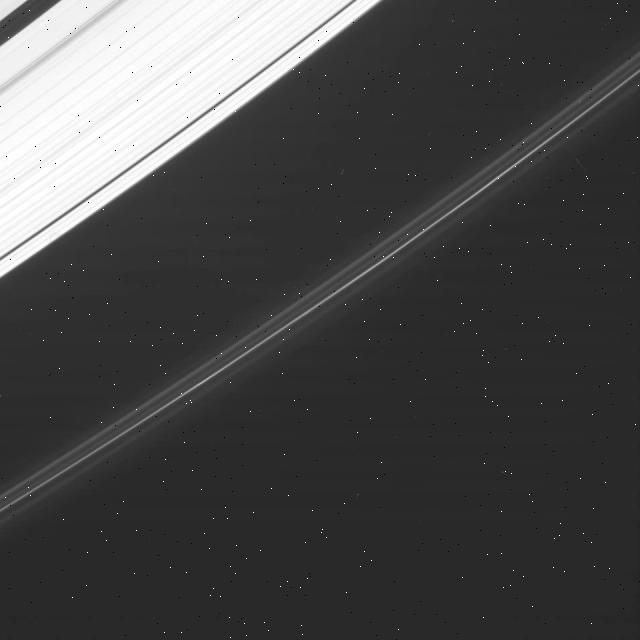Saturn: (0, 1, 640, 548)
